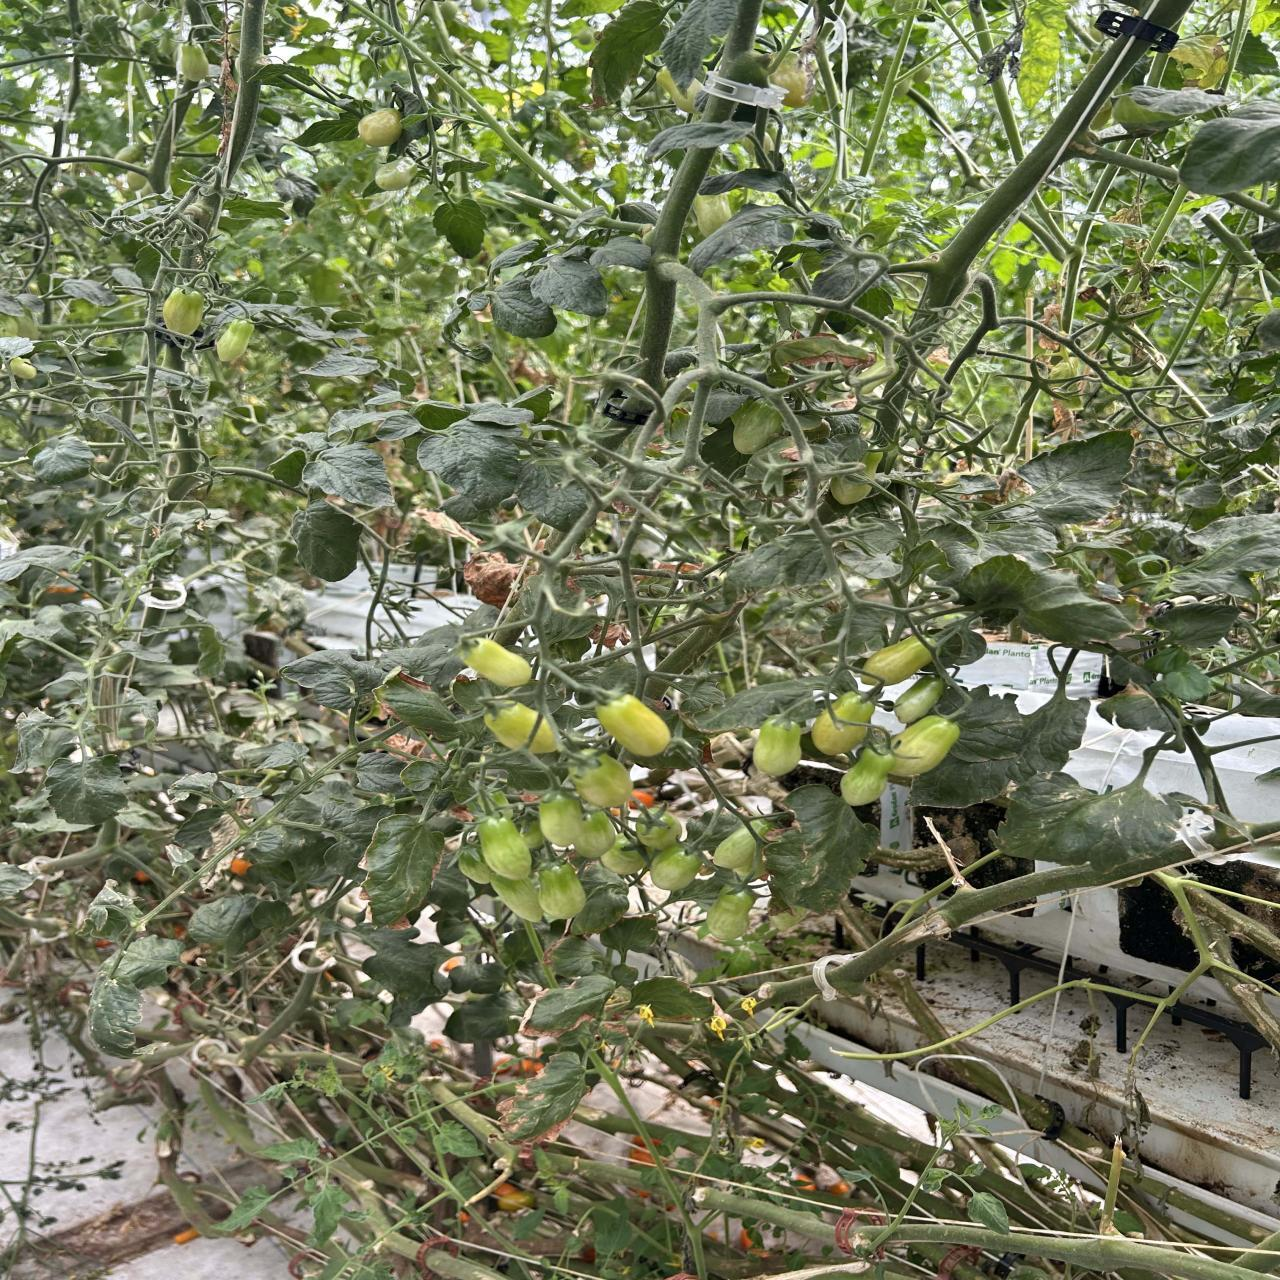Hoja: (1019, 431, 1132, 524), (1179, 117, 1280, 196), (291, 499, 363, 581), (302, 444, 394, 508), (45, 756, 127, 825)
Hoja rugoso: (417, 418, 522, 520), (660, 0, 738, 89), (516, 458, 587, 532), (530, 256, 606, 316), (490, 277, 557, 338)
Pedunculo: (920, 41, 1132, 309), (835, 840, 1193, 986), (639, 144, 715, 390), (220, 0, 265, 189), (721, 0, 765, 82), (702, 95, 736, 121)
Tomate: (597, 695, 670, 756), (840, 748, 893, 806)
Tomate Rugoso: (887, 715, 960, 779), (484, 703, 557, 754), (477, 816, 531, 879), (463, 638, 532, 687), (572, 754, 633, 808), (753, 717, 802, 776), (733, 400, 783, 455), (539, 863, 586, 919), (894, 678, 945, 724), (491, 878, 543, 922), (539, 795, 583, 847), (651, 846, 701, 891), (573, 811, 617, 858), (162, 288, 204, 335), (713, 825, 756, 870), (692, 193, 733, 237), (215, 320, 254, 365), (177, 43, 209, 82)
